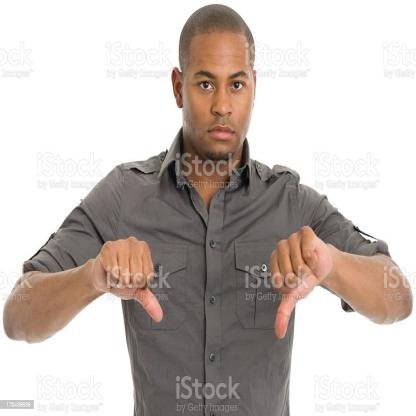Thumbs-Down: (266, 220, 334, 345)
